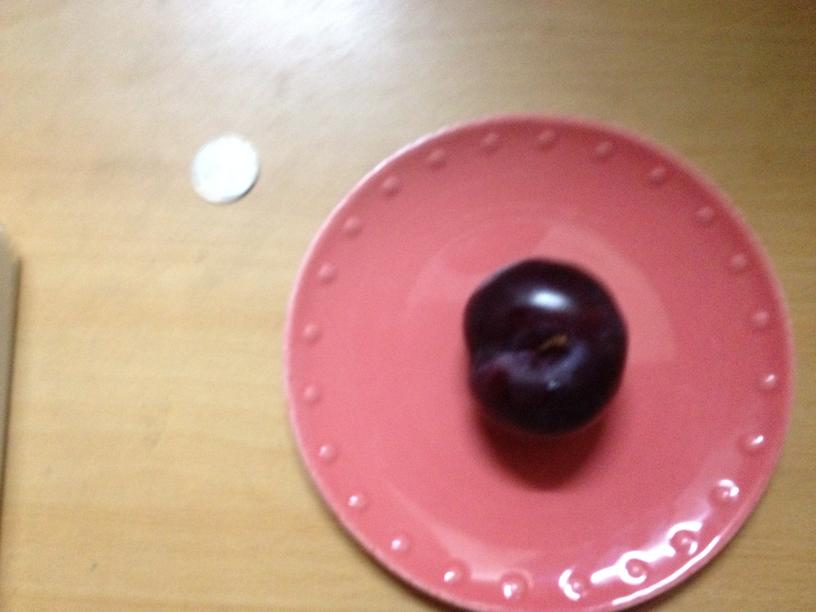coin: (189, 135, 264, 202)
plum: (462, 260, 635, 430)
